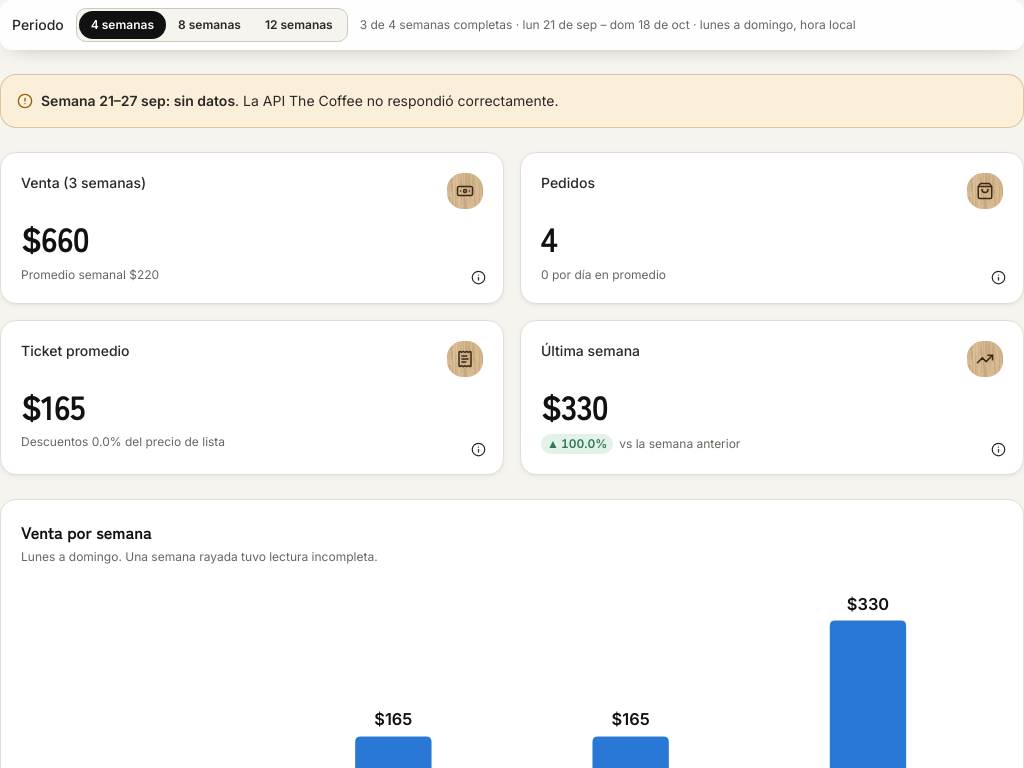
Test: muestra cobertura, semana parcial, mapa de calor accesible y cambia a 8 semanas con su propia clave
Expected: the text "3 de 4 semanas completas" is shown, x1=360 y1=17 x2=856 y2=33
Click the button "8 semanas": (209, 25) x1=166 y1=11 x2=253 y2=39
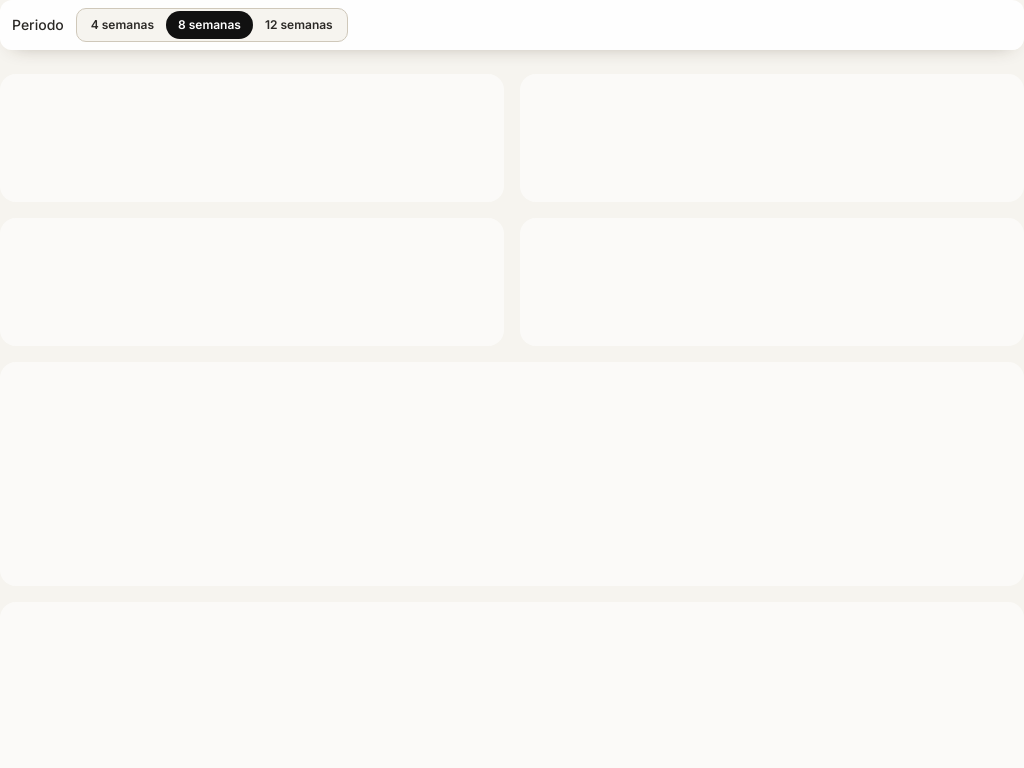
Result: the text "3 de 4 semanas completas" is gone
